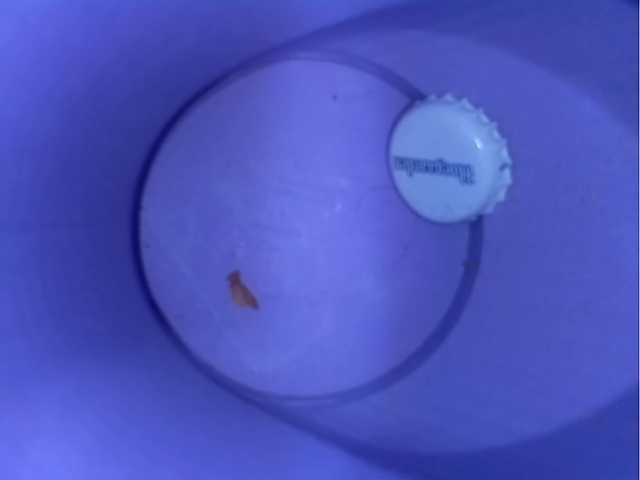capsule: (370, 89, 529, 234)
croquette: (208, 257, 280, 313)
